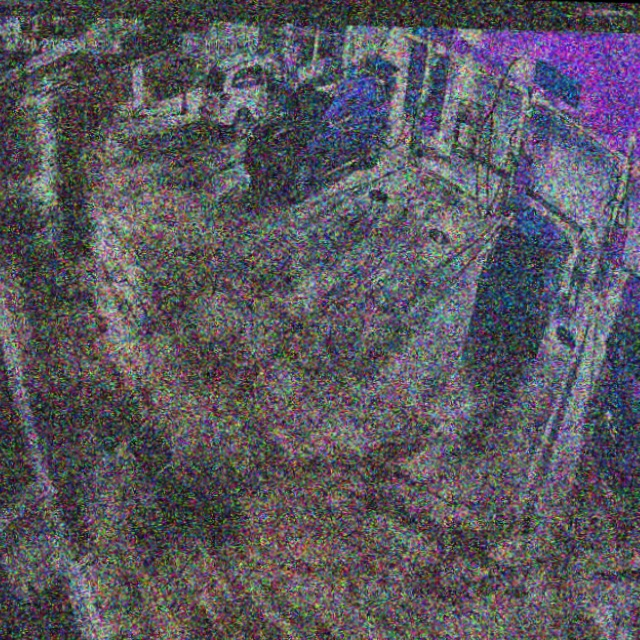Car: (240, 47, 396, 204), (474, 201, 575, 357)
